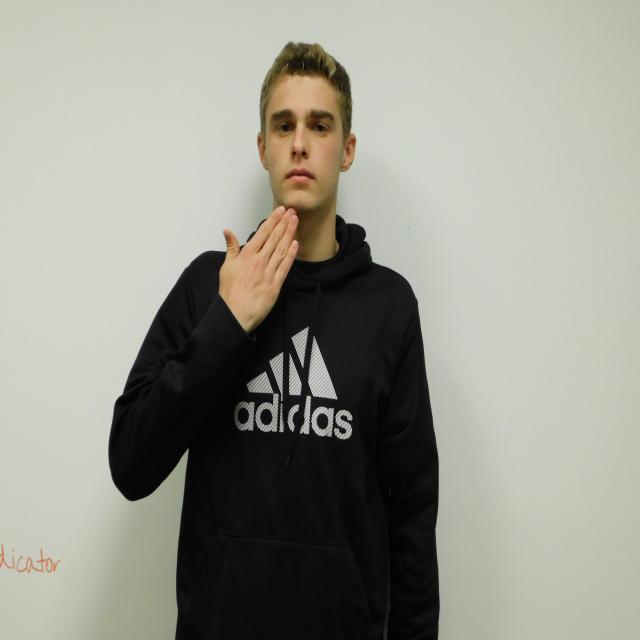thank-you: (220, 206, 299, 323)
